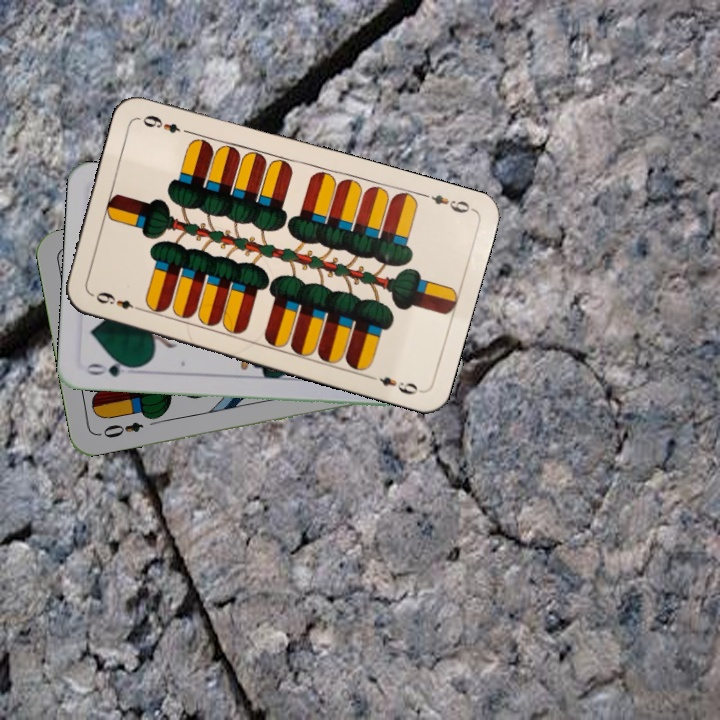E9: (417, 189, 476, 216), (91, 288, 145, 314)
EO: (94, 418, 146, 441)
GO: (83, 356, 141, 380)
